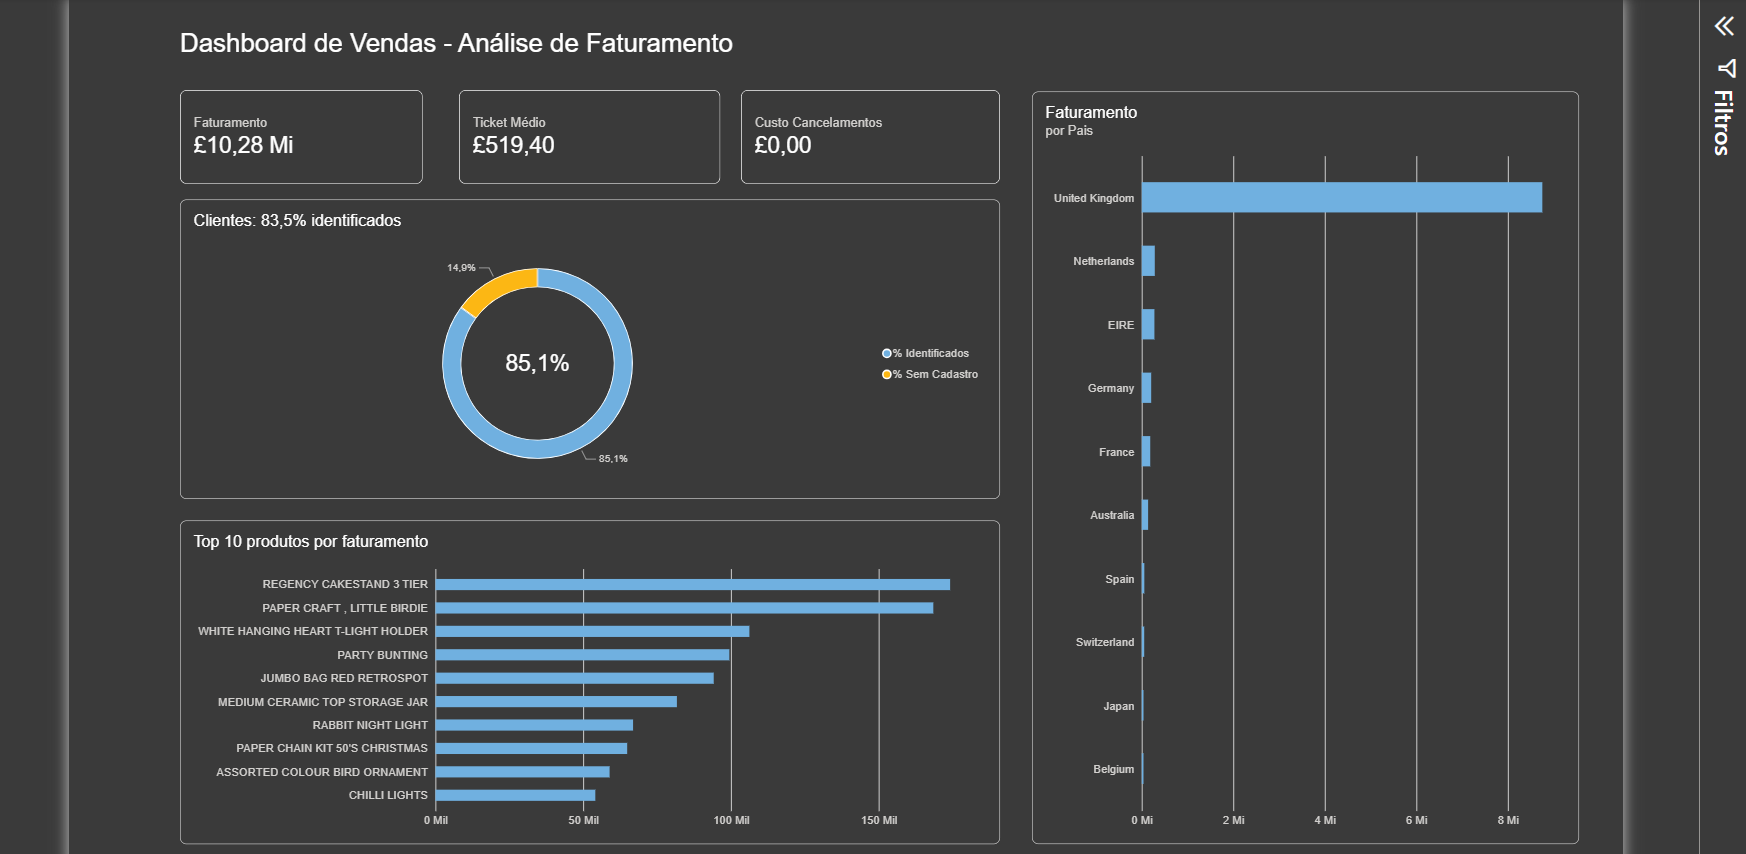

This screenshot's page, from the dashboard's own definition file:
{"tool":"powerbi","page":{"name":"[DASHBOARD] analise de vendas","canvas":[1920,1080],"ordinal":0},"visuals":[{"type":"cardVisual","fields":{"Data":["vendas.Faturamento"]},"box":[136.4,115.5,300.5,116.2],"z":0},{"type":"cardVisual","fields":{"Data":["vendas.Ticket Médio"]},"box":[482.7,115.5,323.2,116.2],"z":1000},{"type":"cardVisual","fields":{"Data":["vendas.Custo Cancelamentos"]},"box":[830,115.5,320.3,116.2],"z":2000},{"type":"donutChart","title":"Clientes: 83,5% identificados","fields":{"Y":["vendas.% Identificados","vendas.% Sem Cadastro"]},"box":[136.7,250,1013.3,370],"z":3000},{"type":"barChart","title":"Top 10 produtos por faturamento","fields":{"Category":["vendas.Descricao_Produto"],"Y":["vendas.Faturamento"]},"box":[136.7,646.7,1013.3,400],"z":4000},{"type":"barChart","fields":{"Category":["vendas.Pais"],"Y":["vendas.Faturamento"]},"box":[1190,116,676,930],"z":5000},{"type":"textbox","box":[136.7,38.3,685,45],"z":6000}]}

Visuals, with their boxes on the page's 1920x1080 design canvas (x1, y1, x2, y2). These are canvas units, not pixel positions in the 1746x854 screenshot, which may show the page scaled, cropped or inside an application window:
cardVisual - vendas.Faturamento: {"x1": 136, "y1": 116, "x2": 437, "y2": 232}
cardVisual - vendas.Ticket Médio: {"x1": 483, "y1": 116, "x2": 806, "y2": 232}
cardVisual - vendas.Custo Cancelamentos: {"x1": 830, "y1": 116, "x2": 1150, "y2": 232}
"Clientes: 83,5% identificados" donutChart: {"x1": 137, "y1": 250, "x2": 1150, "y2": 620}
"Top 10 produtos por faturamento" barChart: {"x1": 137, "y1": 647, "x2": 1150, "y2": 1047}
barChart - vendas.Pais x vendas.Faturamento: {"x1": 1190, "y1": 116, "x2": 1866, "y2": 1046}
textbox: {"x1": 137, "y1": 38, "x2": 822, "y2": 83}
